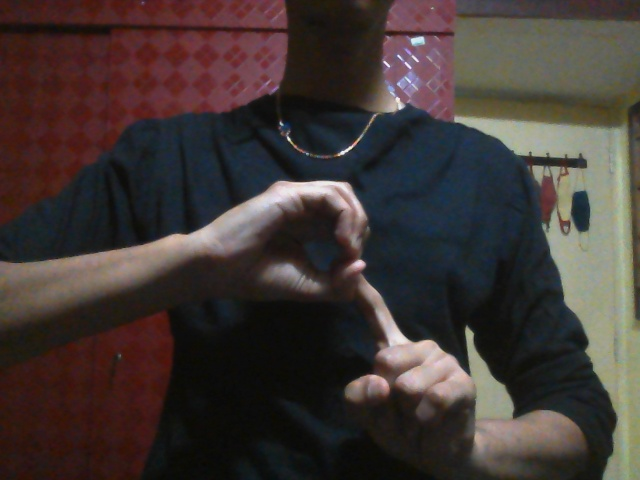Q: (225, 177, 475, 470)
